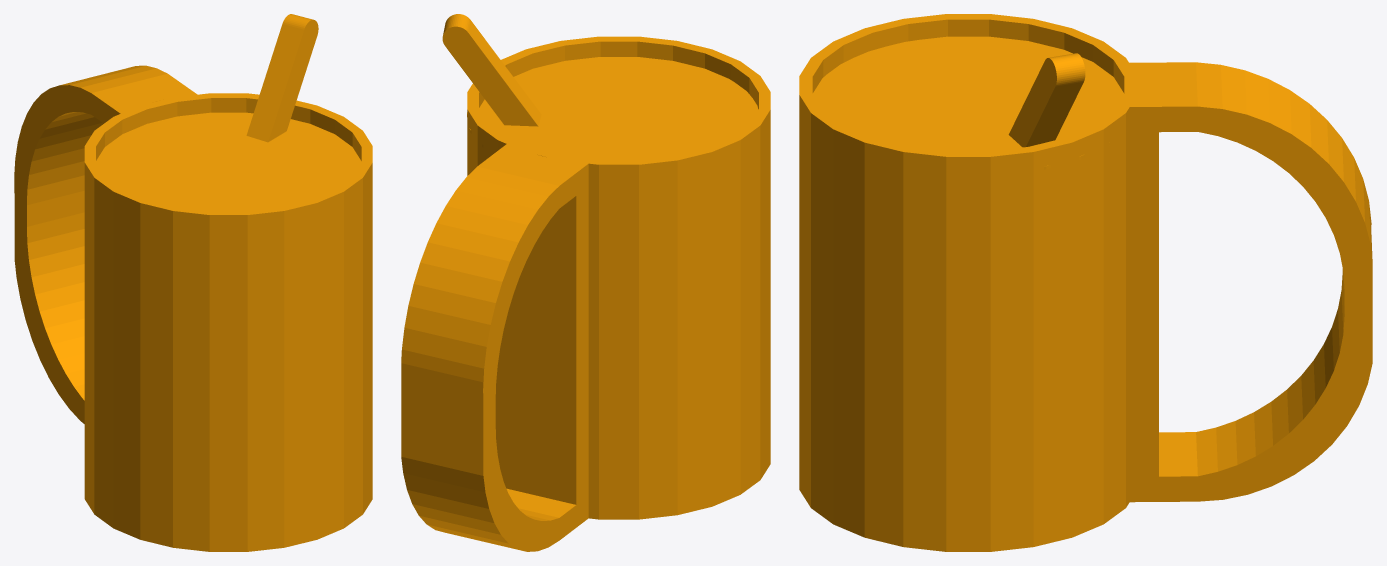
3 views of the same model, side by side, from view 1: azimuth 30°, elevation 25°; view 2: azimuth 150°, elevation 25°; view 3: azimuth 270°, elevation 25° (orthographic). The views are drawn at different scales.
Bounding box in the file's own units: 0.3985 × 0.6283 × 0.6682.
